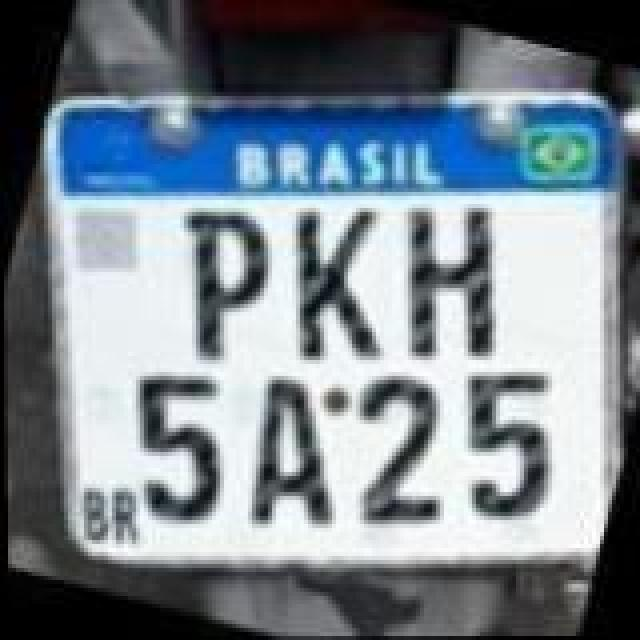2: (324, 362, 476, 542)
5: (98, 352, 254, 540), (432, 352, 584, 532)
A: (228, 366, 372, 542)
H: (364, 180, 532, 380)
K: (260, 184, 428, 380)
P: (140, 192, 284, 376)
